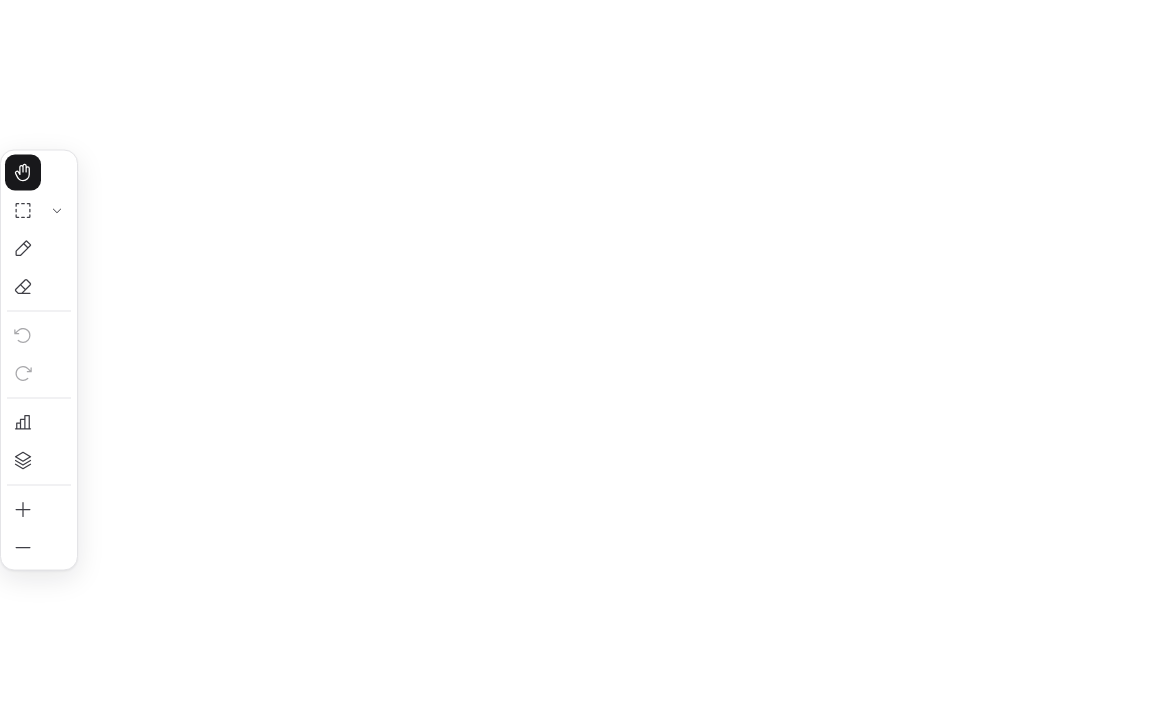
Scenario: MapTools › says there is no data for the month, and not that it is loading, when the months have weather but not this one
The image size is (1152, 720).
Click the button named "Layers" at x=23, y=460, box [5, 442, 41, 478]
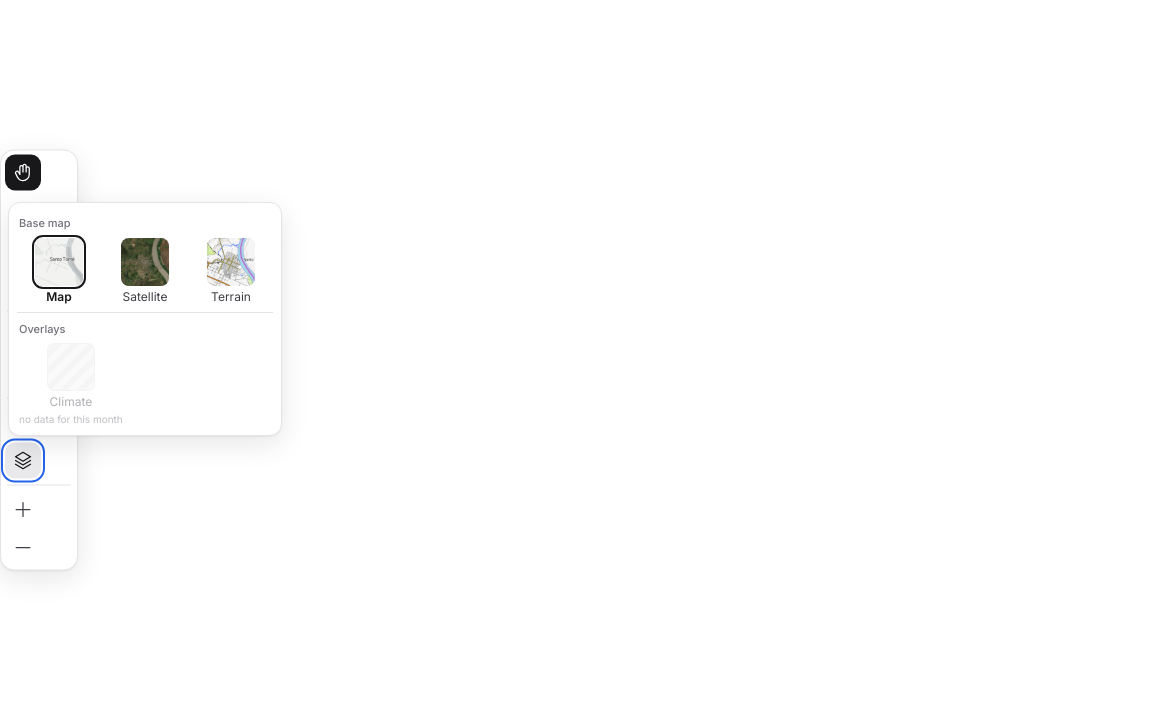
expect the button "Climate no data for this month" does not show "loading": met, box [17, 341, 125, 427]
expect the button "Climate no data for this month" is disabled: met, box [17, 341, 125, 427]
expect the button "Climate no data for this month" is shown: met, box [17, 341, 125, 427]
